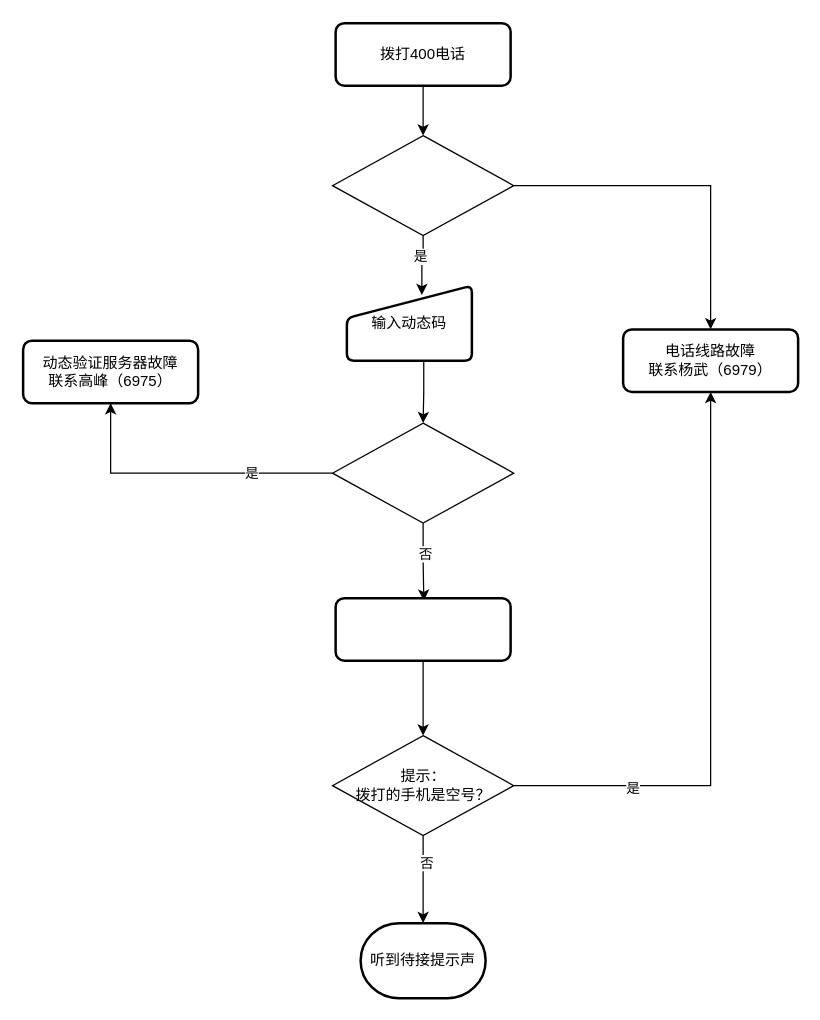
This 820x1020 diagram has some shape labels left out. Here are the shapes that lost their labels. From the top down, the box of each, then its label:
(331, 134, 514, 236): 提示： 输入动态码？
(331, 422, 514, 523): 提示： 用户验证失败？
(334, 596, 511, 661): 输入样户手机号
